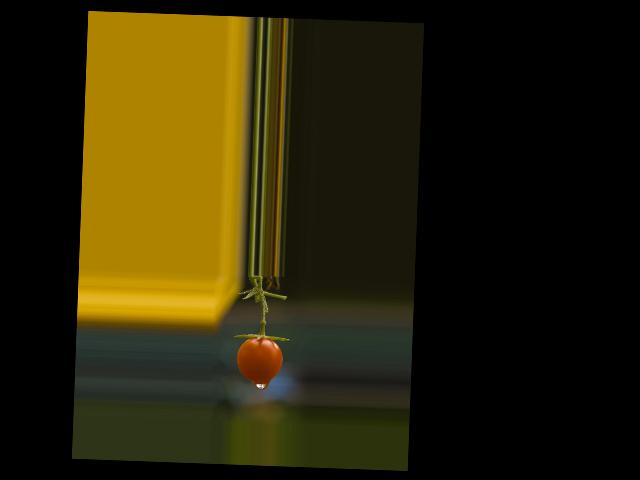tomato: (236, 336, 284, 383)
